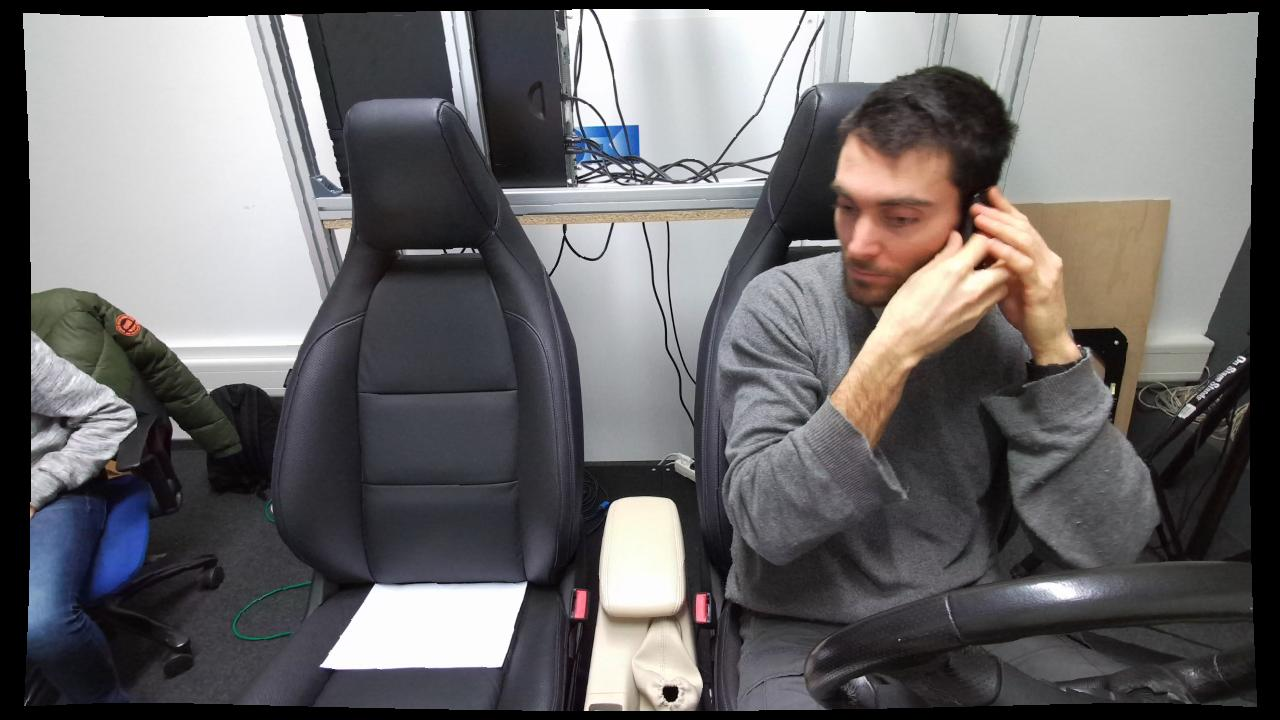Distracted: (725, 66, 1090, 711), (725, 68, 1066, 709)
PhoneUse: (927, 174, 1042, 303)
